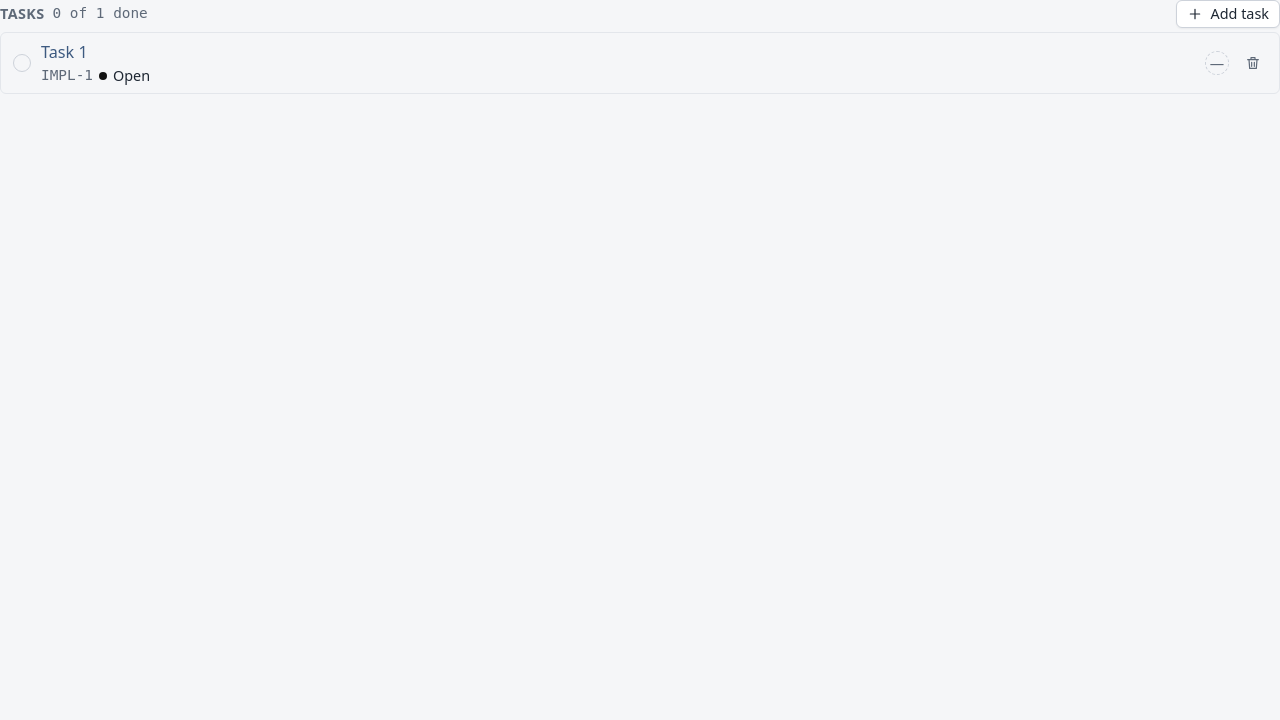
Test: TasksSection: Move back › stays on the dialog with the refusal, and opens no form, when the move is refused
Click the button "Add task" at (1228, 14), box [1176,0,1279,28]
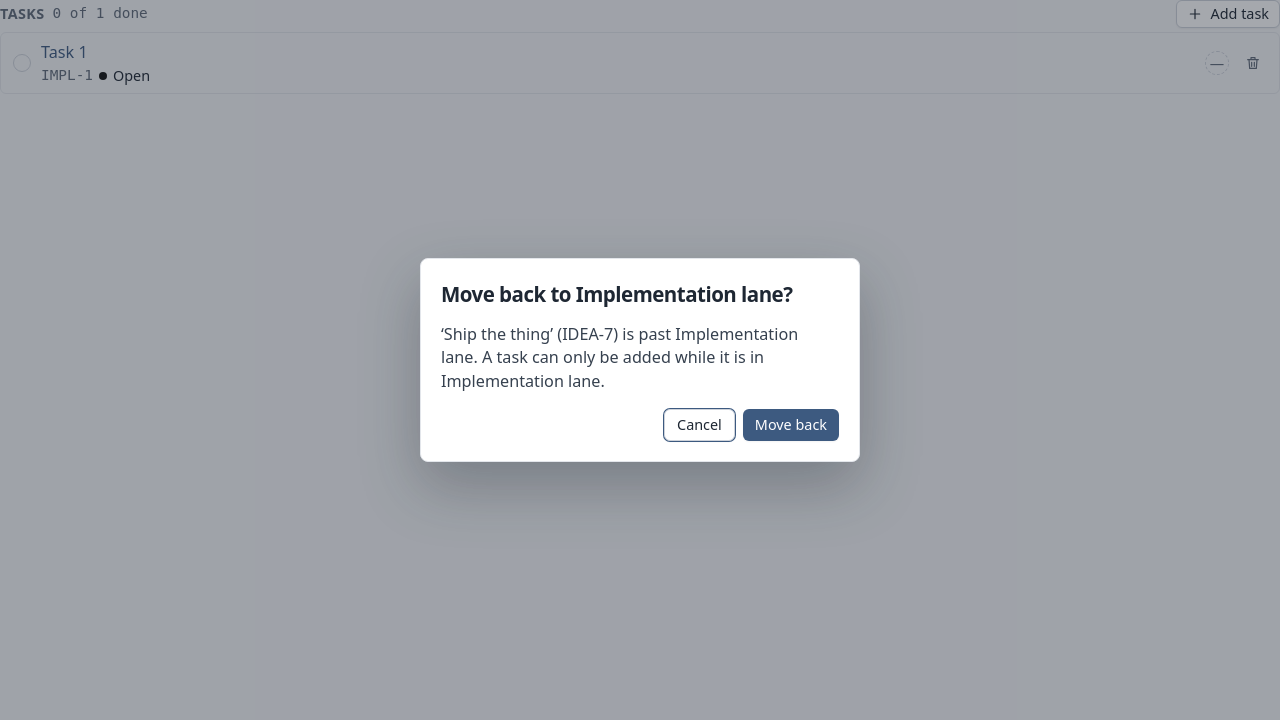
Click the button "Move back" at (791, 425), box [743,409,839,441]
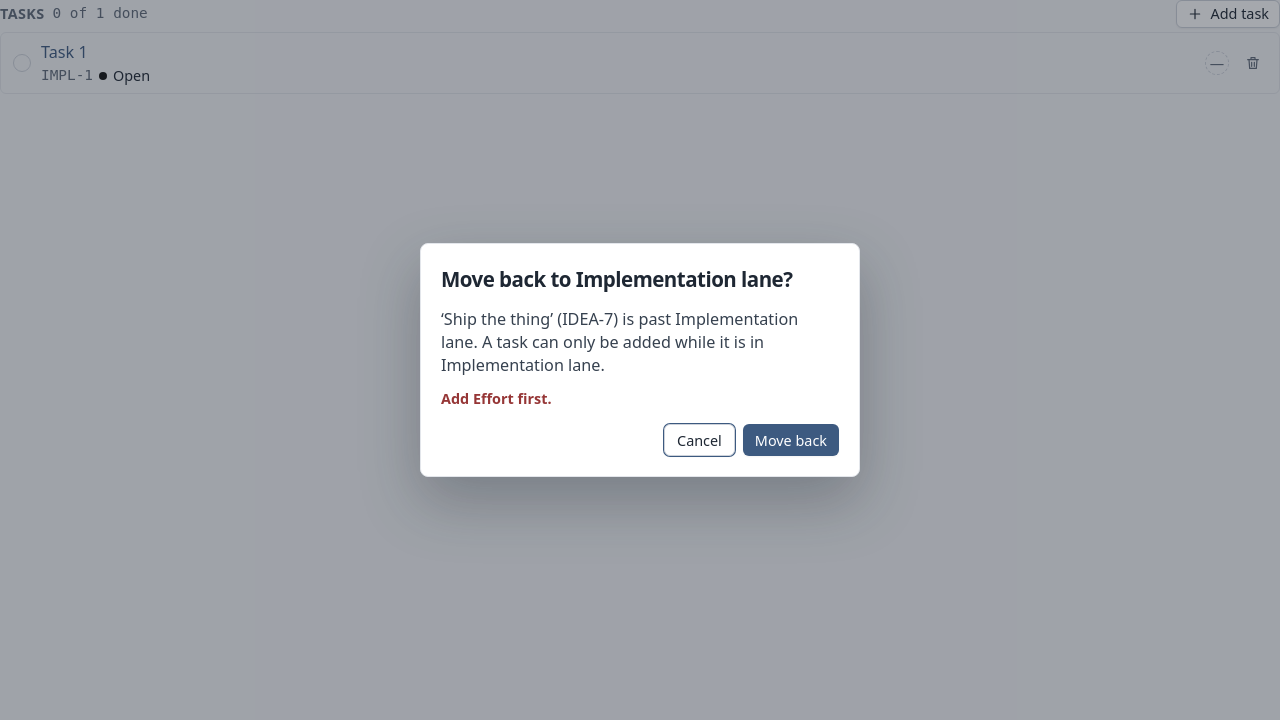
Result: the message reads "Add Effort first." at [441,389,552,408]
